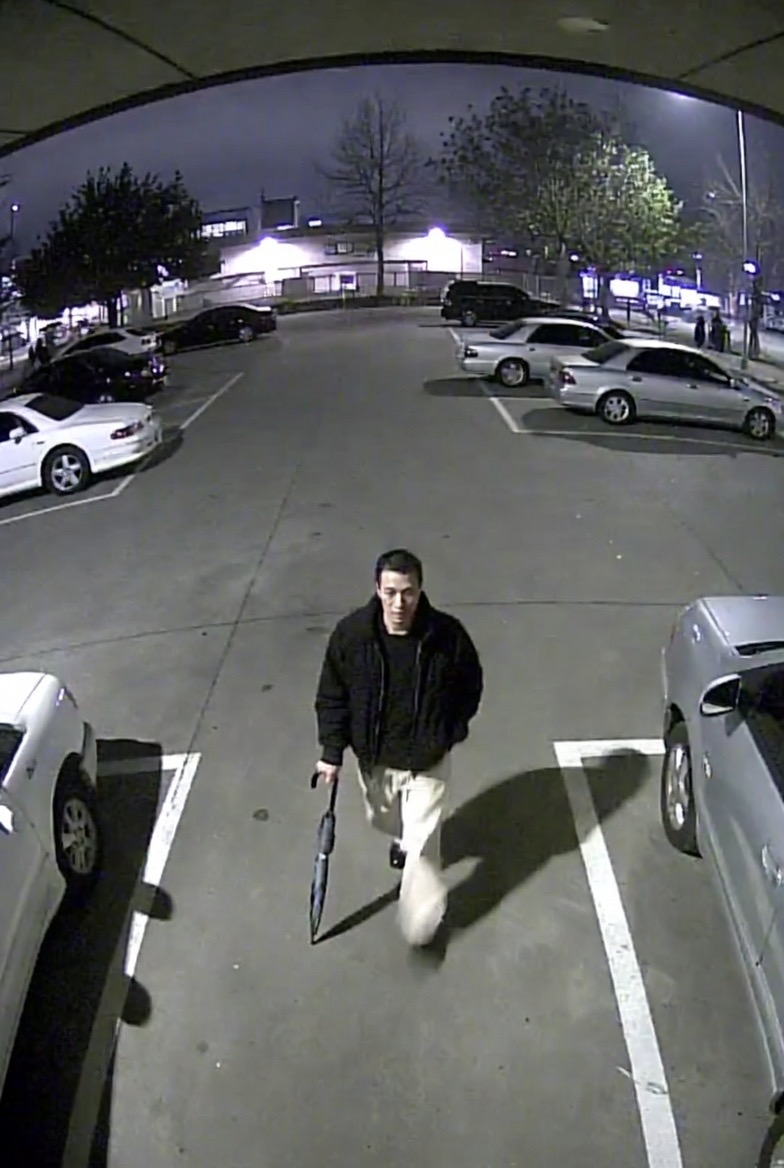person: (310, 549, 485, 951), (710, 312, 728, 353), (694, 314, 708, 349)
umbrella: (308, 772, 339, 945)
